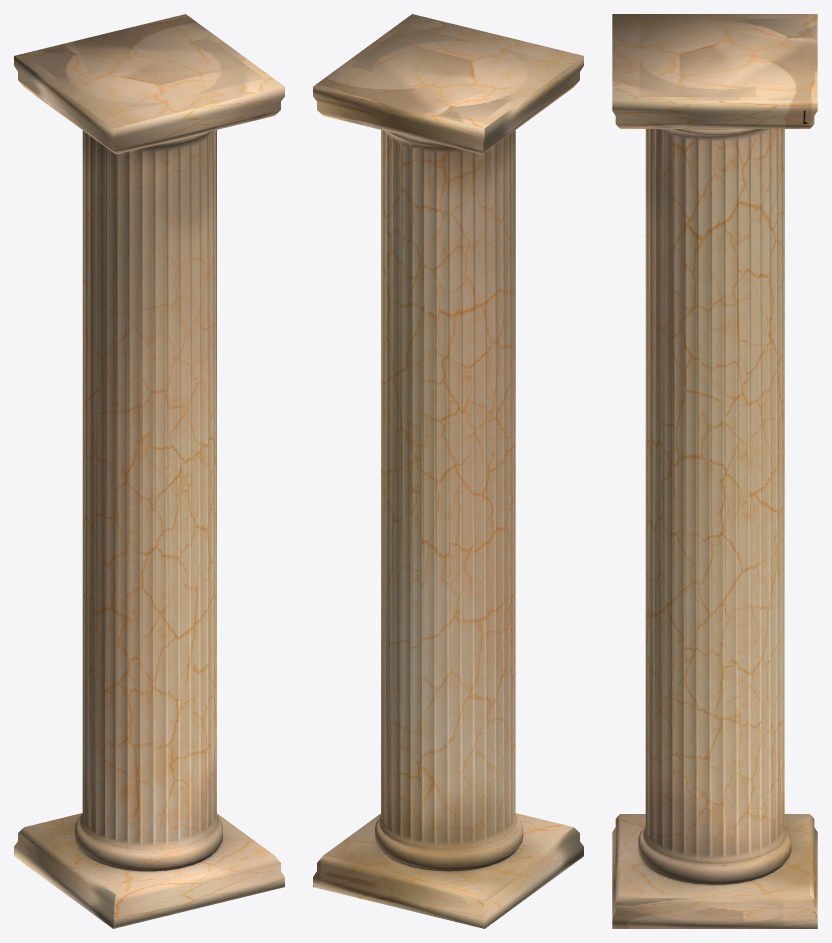
File: columna1.fbx
The picture shows the model from 3 angles, left to right: view 1: azimuth 30°, elevation 25°; view 2: azimuth 150°, elevation 25°; view 3: azimuth 270°, elevation 25°; orthographic projection. The views are drawn at different scales.
Parts seen in each view (by area): view 1: Column Full; view 2: Column Full; view 3: Column Full.
Boxes of the visible parts, x1,y1,x2,y2 form: Column Full: (14,14,284,928); Column Full: (313,14,583,928); Column Full: (612,14,817,928).
Size of the model in its own units: 56.47 by 252 by 56.47.
